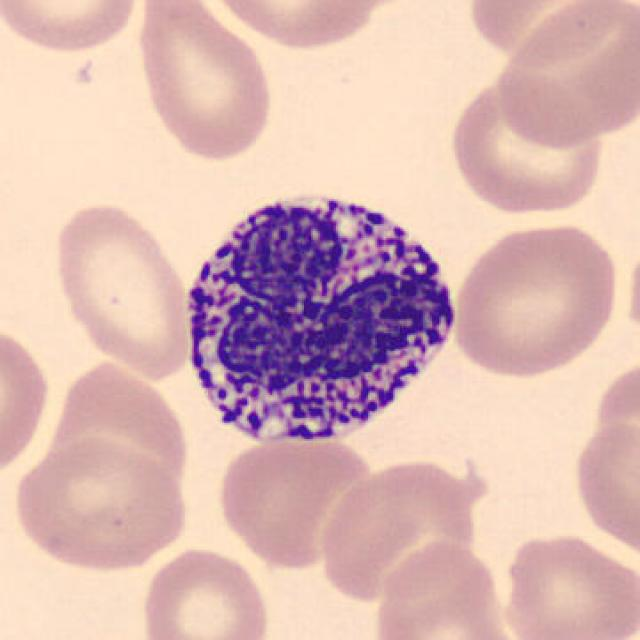Basophil: (169, 171, 473, 462)
RBC: (446, 217, 622, 381), (313, 453, 494, 607), (48, 196, 196, 381), (9, 432, 192, 575), (442, 68, 612, 218), (39, 356, 196, 511), (132, 0, 278, 164), (212, 430, 374, 571), (491, 2, 638, 150), (498, 529, 638, 640), (367, 537, 517, 640), (137, 543, 274, 640), (462, 0, 630, 71), (567, 414, 640, 559), (201, 0, 400, 53), (0, 319, 55, 483), (0, 0, 144, 56), (622, 226, 640, 360)
